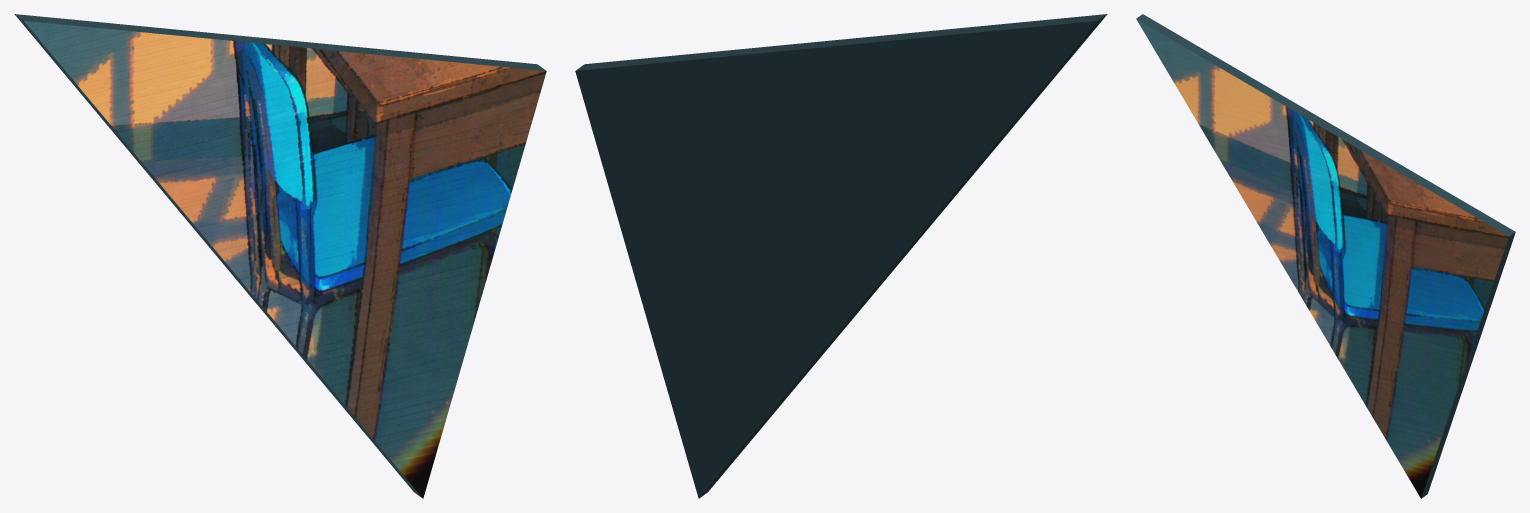
3 views of the same model, side by side, from view 1: azimuth 30°, elevation 25°; view 2: azimuth 150°, elevation 25°; view 3: azimuth 330°, elevation 25° (orthographic). The views are drawn at different scales.
Parts seen in each view (by area): view 1: Piece_04; view 2: Piece_04; view 3: Piece_04.
Part boxes in pixels (x1,y1,x2,y2): Piece_04: [14, 14, 546, 498]; Piece_04: [575, 14, 1107, 498]; Piece_04: [1136, 14, 1515, 498].
Bounding box in the file's own units: 0.809 × 0.8507 × 0.025.
Materials: 2 (1 with a texture image).
